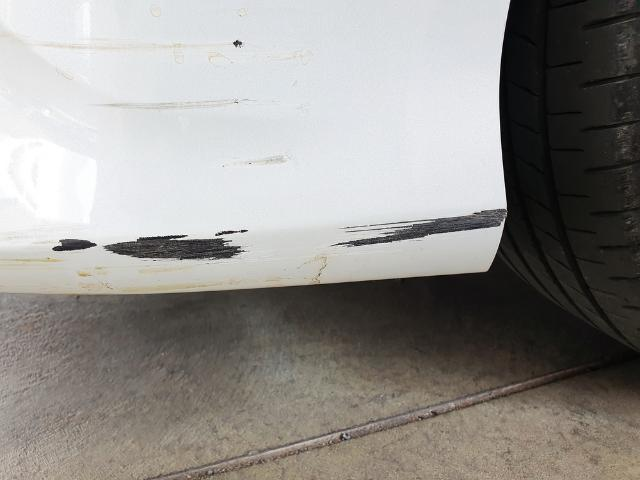scratch: (0, 206, 508, 268)
